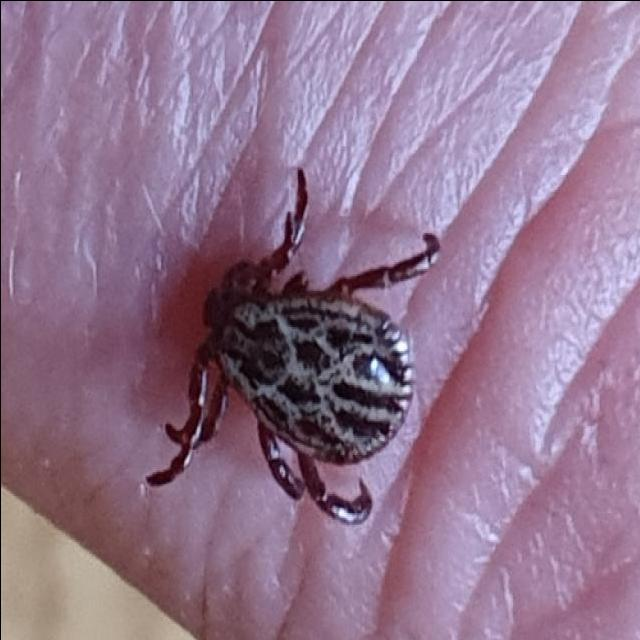Dermacentor Reticulatus-M: (146, 166, 440, 524)
